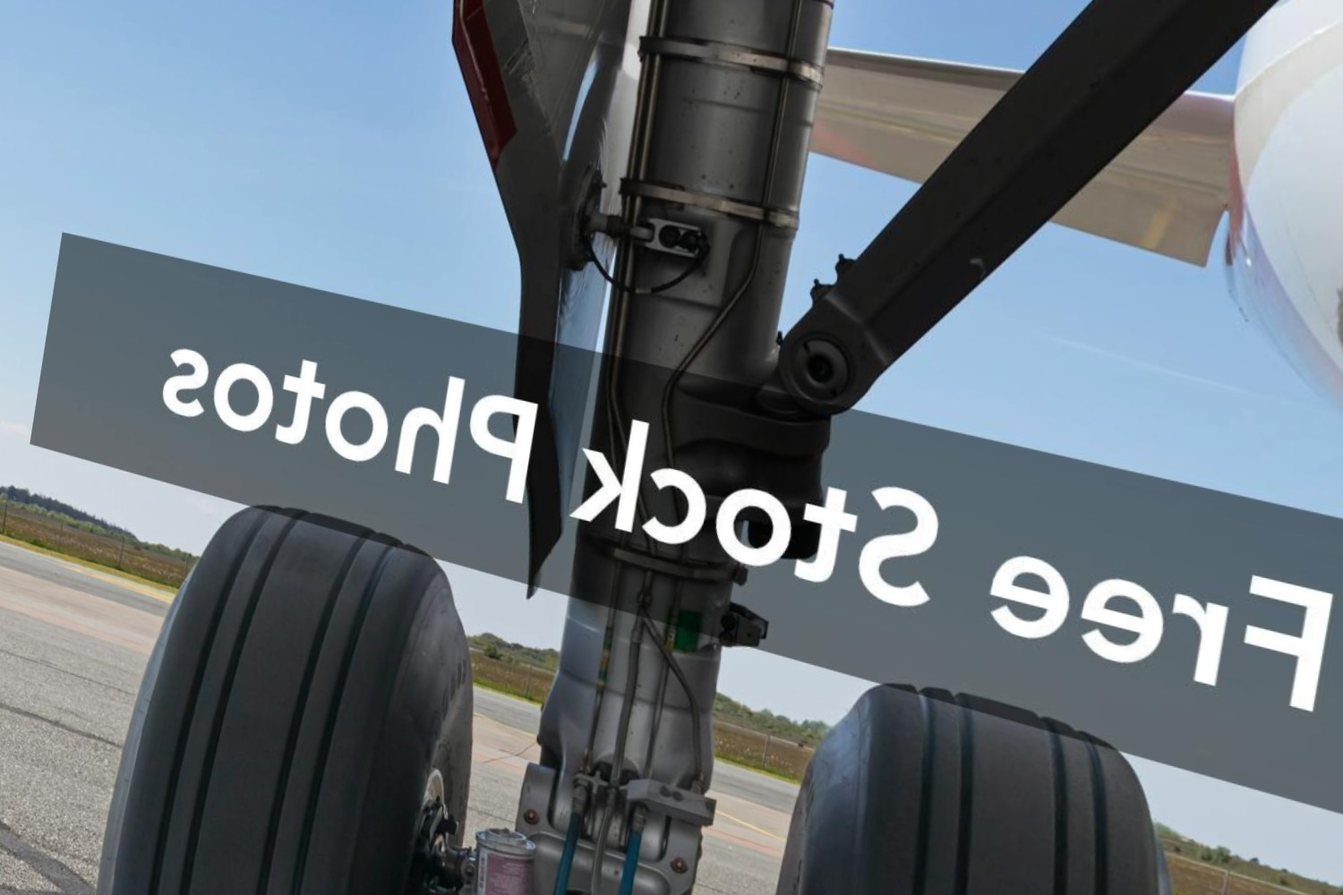wheel: (93, 466, 500, 895), (736, 646, 1247, 895)
